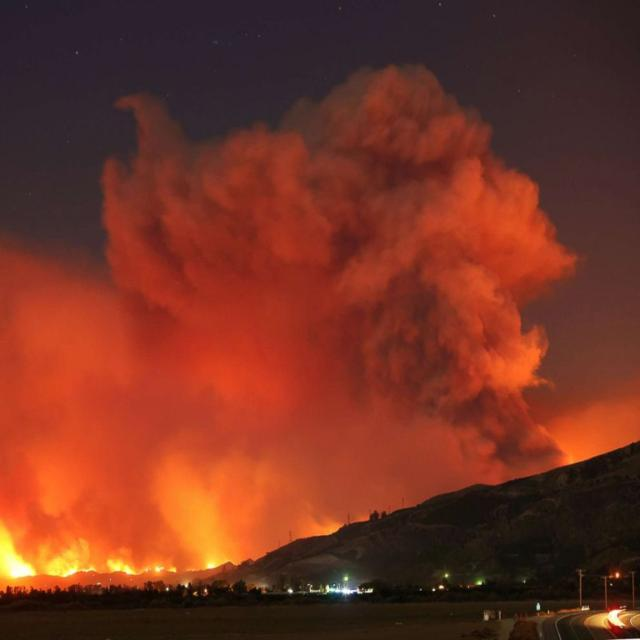Fire: (0, 416, 640, 578)
Smoke: (0, 60, 640, 489)
